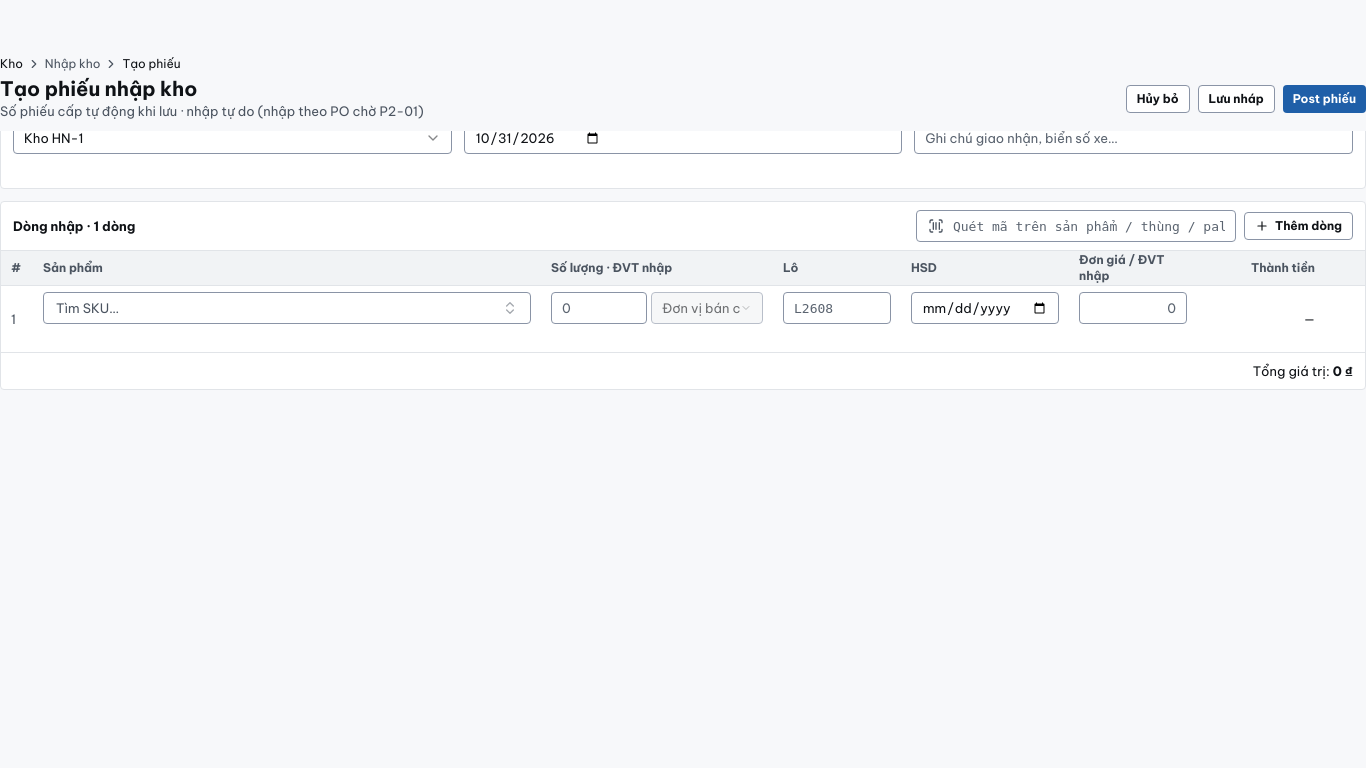
Test: GrnCreateScreen — POST /goods-receipts (+ post) › mã quét bị bộ gõ tiếng Việt làm sai (có dấu) → hộp thoại cảnh báo tắt bộ gõ, không cho gán
In the field named "Quét barcode sản phẩm / thùng / pallet": [1076, 226] box [916,210,1236,242], type "https://ưưư.thiennongnamviet.com.vn/combi"
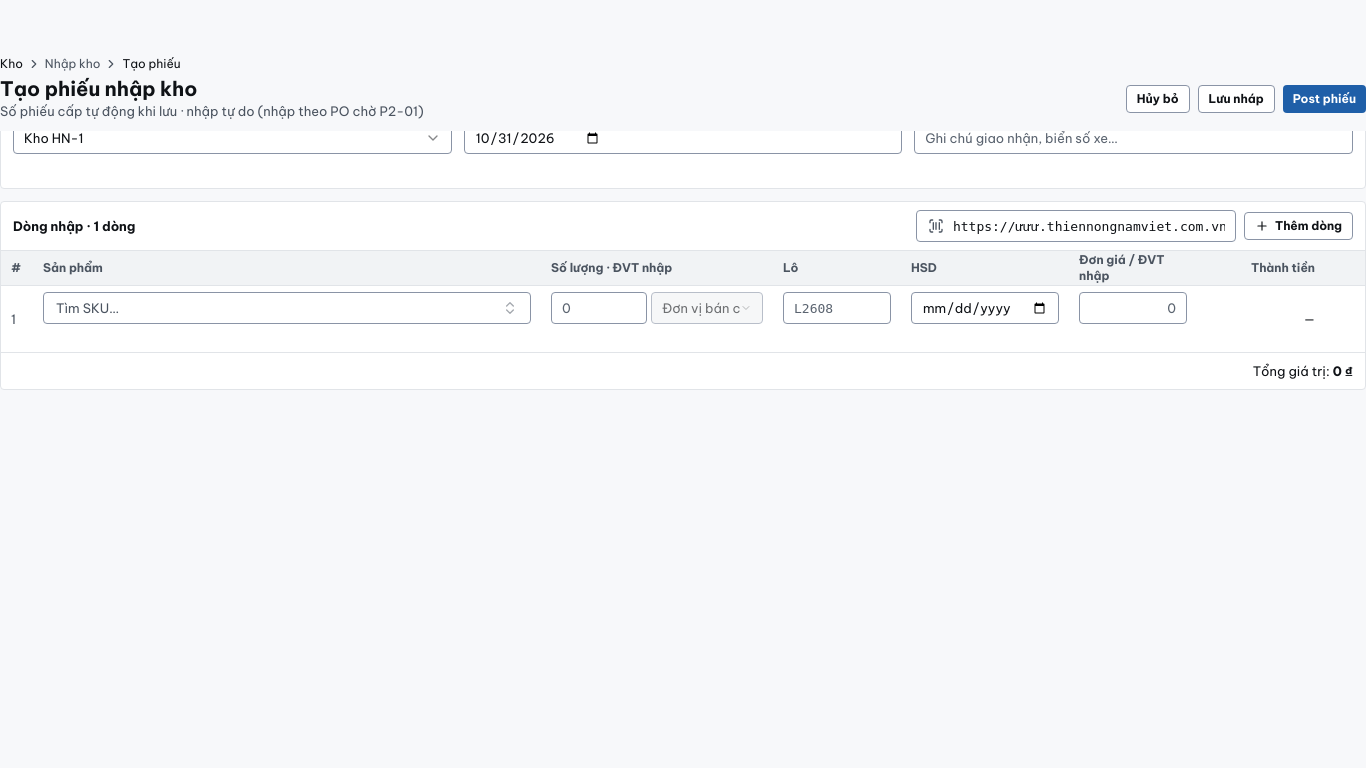
Press Enter in the field named "Quét barcode sản phẩm / thùng / pallet", box [916,210,1236,242]
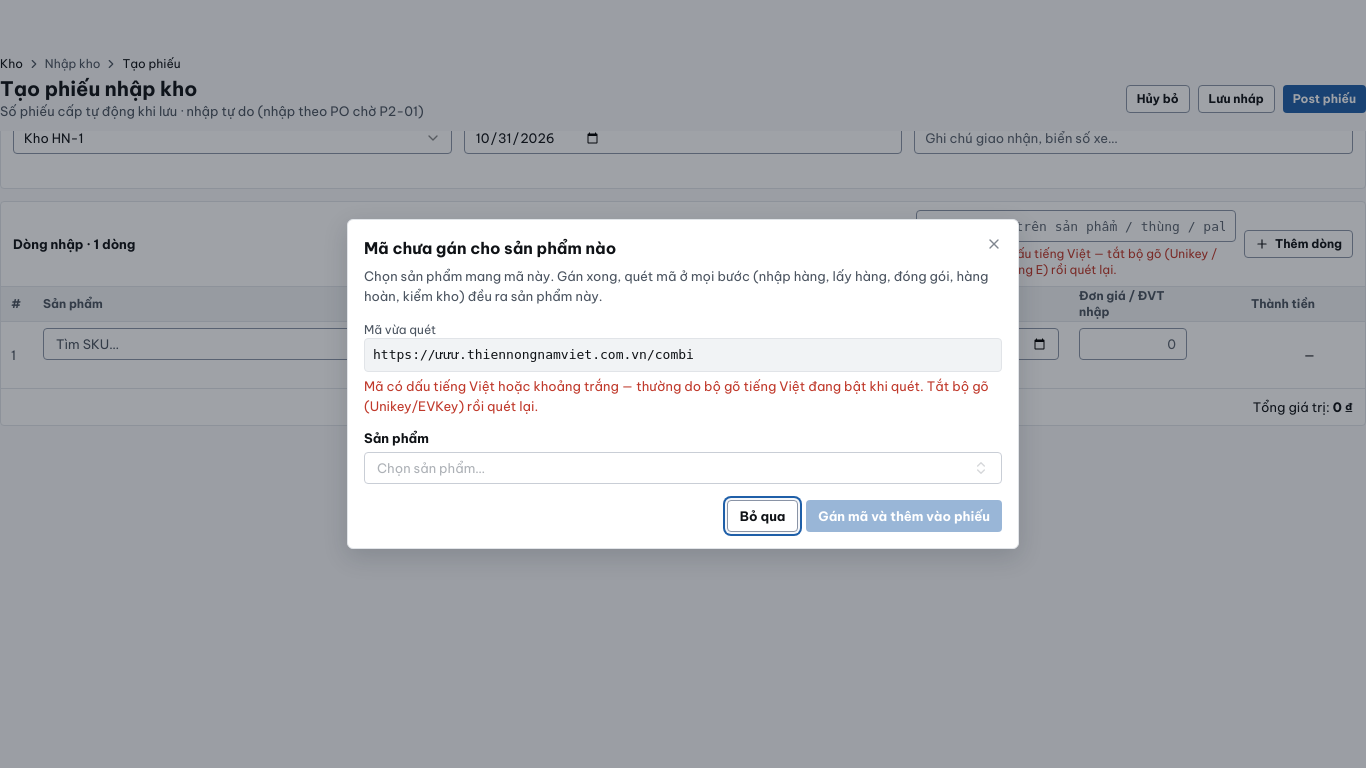
Now the dialog "Mã chưa gán cho sản phẩm nào" shows "Tắt bộ gõ (Unikey/EVKey) rồi quét lại", box [364,378,989,414]
Now the button "Gán mã và thêm vào phiếu" is disabled, box [806,500,1002,532]
